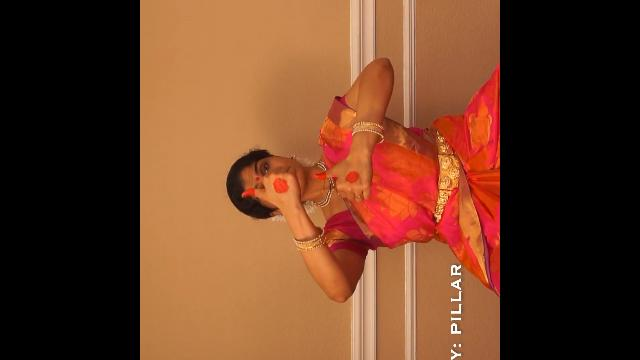shikhar: (313, 137, 385, 217), (234, 162, 308, 228)
